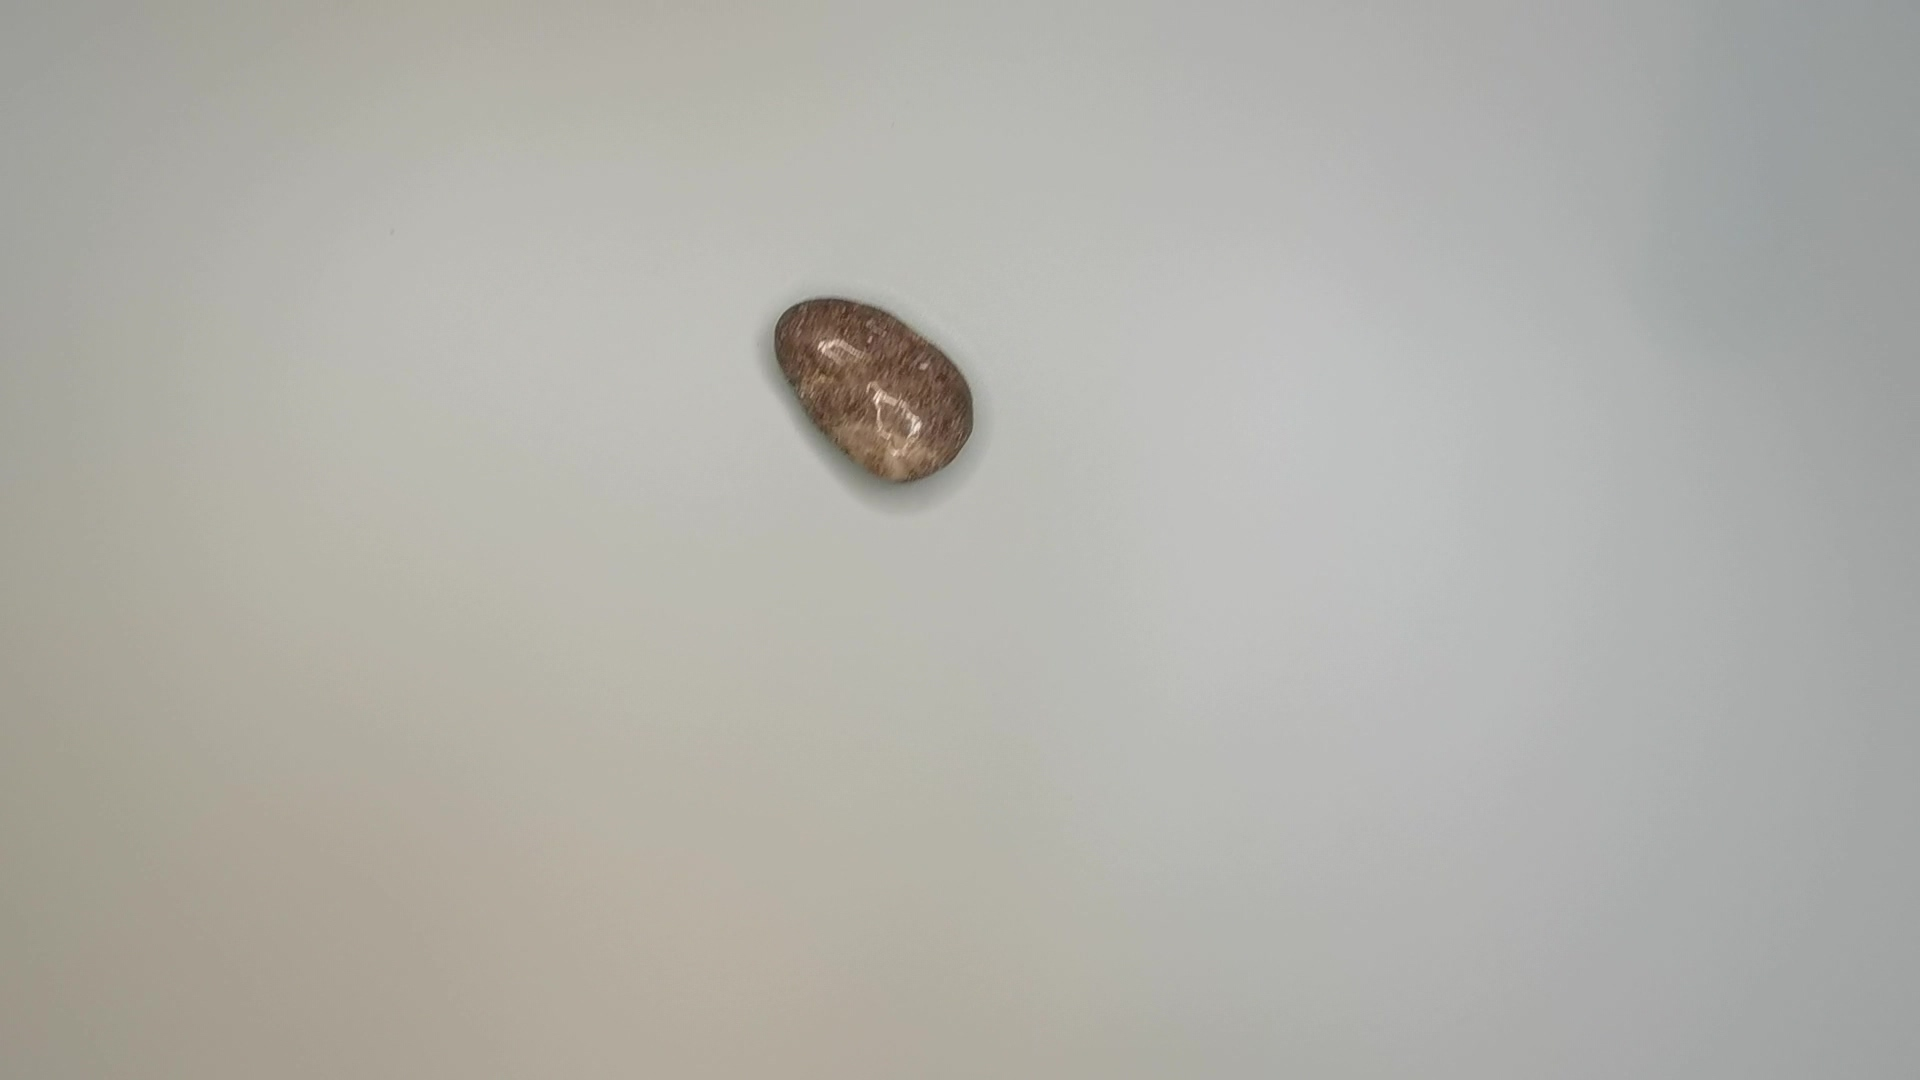ceramic: (770, 290, 985, 485)
